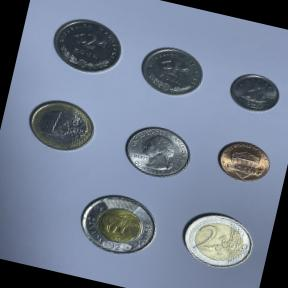1 Euro: (19, 91, 102, 159)
2 Euro: (173, 204, 262, 278)
Canda-10cent-: (221, 66, 288, 119)
Canda-2Dollar-: (70, 183, 168, 266)
Croatia-2Kune-: (44, 9, 131, 82)
US-1cent-: (210, 134, 278, 190)
US-25cent-: (114, 116, 201, 188)
